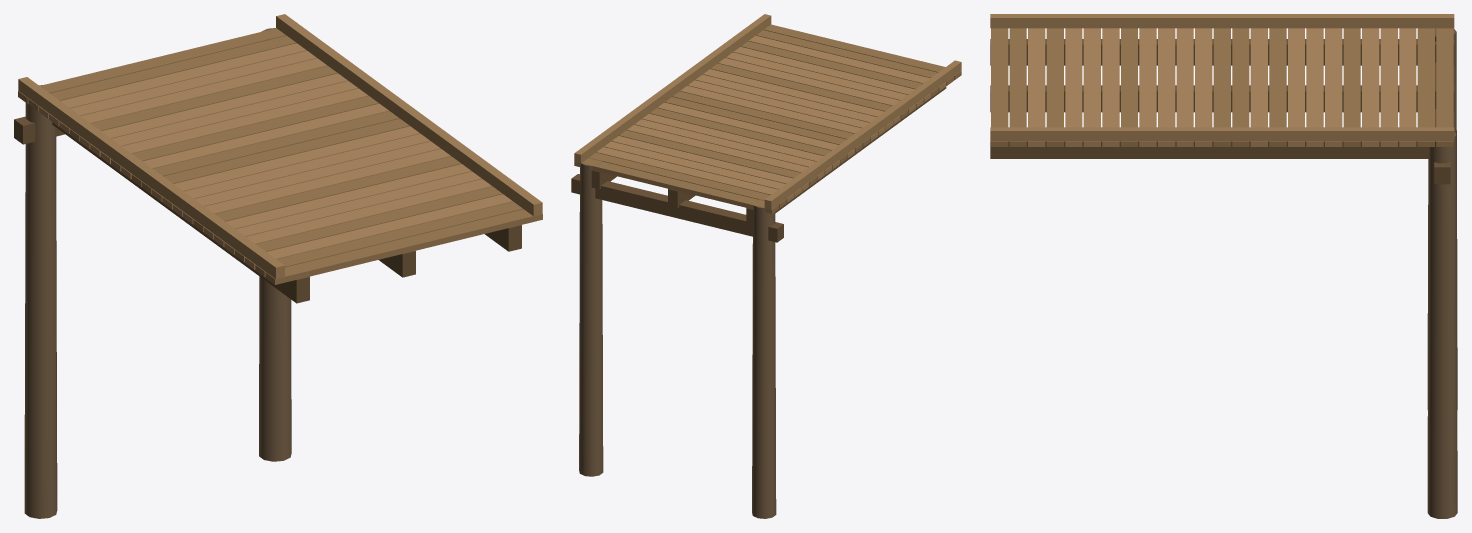
The model's file is jetty.glb.
The picture shows the model from 3 angles, left to right: view 1: azimuth 30°, elevation 25°; view 2: azimuth 150°, elevation 25°; view 3: azimuth 270°, elevation 25°; orthographic projection. The views are drawn at different scales.
Parts seen in each view (by area): view 1: stilt_28, stilt_30, post_29, post_31, plank2_24, plank_8, plank2_23, plank_4, plank2_12, plank_15, plank_18, plank_22 (+20 smaller); view 2: stilt_28, stilt_30, beam_32, post_29, post_31, plank2_0, plank_22, plank_7, plank2_12, plank_20, plank_15, plank_2 (+19 smaller); view 3: stilt_30, post_31, post_29, beam_27, plank2_0, plank_7, plank2_9, plank_16, plank_18, plank2_1, plank_2, plank_3 (+20 smaller).
Boxes of the visible parts, <box> form: stilt_28: <box>24,85,57,518</box>; stilt_30: <box>259,28,291,461</box>; post_29: <box>18,77,284,279</box>; post_31: <box>276,14,542,216</box>; plank2_24: <box>265,209,542,284</box>; plank_8: <box>100,88,368,164</box>; plank2_23: <box>255,201,523,277</box>; plank_4: <box>59,58,327,133</box>; plank2_12: <box>141,119,409,194</box>; plank_15: <box>172,141,440,216</box>; plank_18: <box>203,164,471,239</box>; plank_22: <box>245,194,512,269</box>; stilt_28: <box>752,199,776,518</box>; stilt_30: <box>579,157,603,476</box>; beam_32: <box>571,174,783,242</box>; post_29: <box>764,60,961,209</box>; post_31: <box>574,14,771,163</box>; plank2_0: <box>574,158,778,213</box>; plank_22: <box>748,35,946,91</box>; plank_7: <box>634,119,832,174</box>; plank2_12: <box>672,91,870,146</box>; plank_20: <box>733,46,931,102</box>; plank_15: <box>695,74,893,130</box>; plank_2: <box>596,147,794,202</box>; stilt_30: <box>1427,132,1457,518</box>; post_31: <box>990,127,1454,141</box>; post_29: <box>990,14,1454,28</box>; beam_27: <box>990,141,1428,158</box>; plank2_0: <box>1436,28,1453,146</box>; plank_7: <box>1306,28,1323,146</box>; plank2_9: <box>1269,28,1286,146</box>; plank_16: <box>1139,28,1156,146</box>; plank_18: <box>1102,28,1119,146</box>; plank2_1: <box>1417,28,1434,146</box>; plank_2: <box>1399,28,1416,146</box>; plank_3: <box>1380,28,1397,146</box>.
Size of the model in its own units: 2.5 by 3.7 by 4.03.
